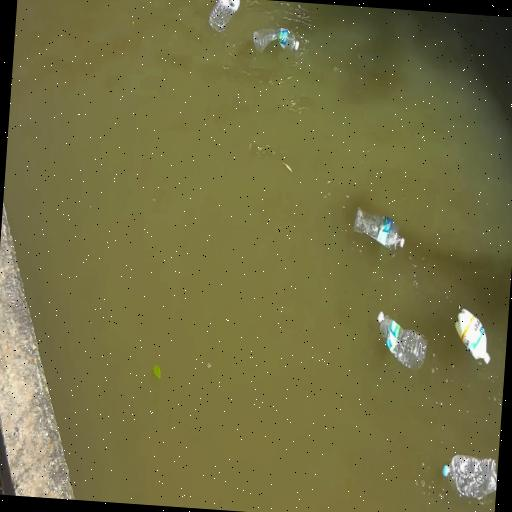plastic: (377, 312, 425, 368), (442, 455, 496, 500), (352, 207, 403, 251), (455, 307, 489, 363), (252, 28, 298, 53), (208, 0, 240, 34)
